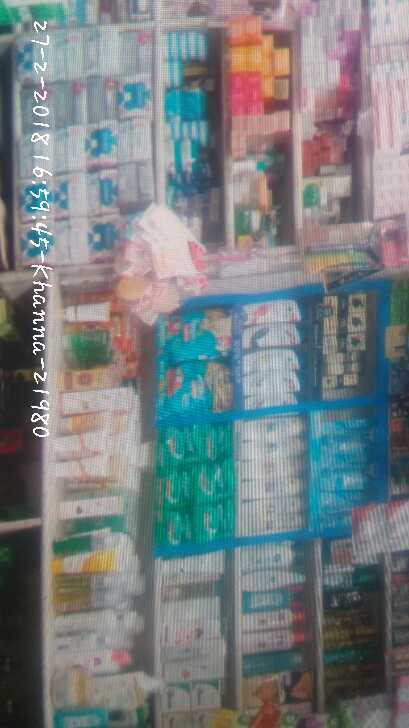venus: (317, 415, 378, 456), (317, 456, 377, 494)
